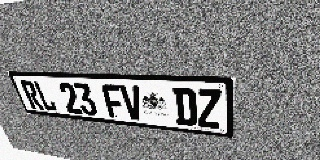2: (57, 82, 83, 114)
3: (73, 83, 98, 116)
D: (173, 87, 197, 126)
F: (101, 84, 126, 119)
L: (33, 81, 58, 112)
R: (19, 80, 45, 110)
V: (119, 85, 145, 121)
Z: (196, 88, 221, 129)
